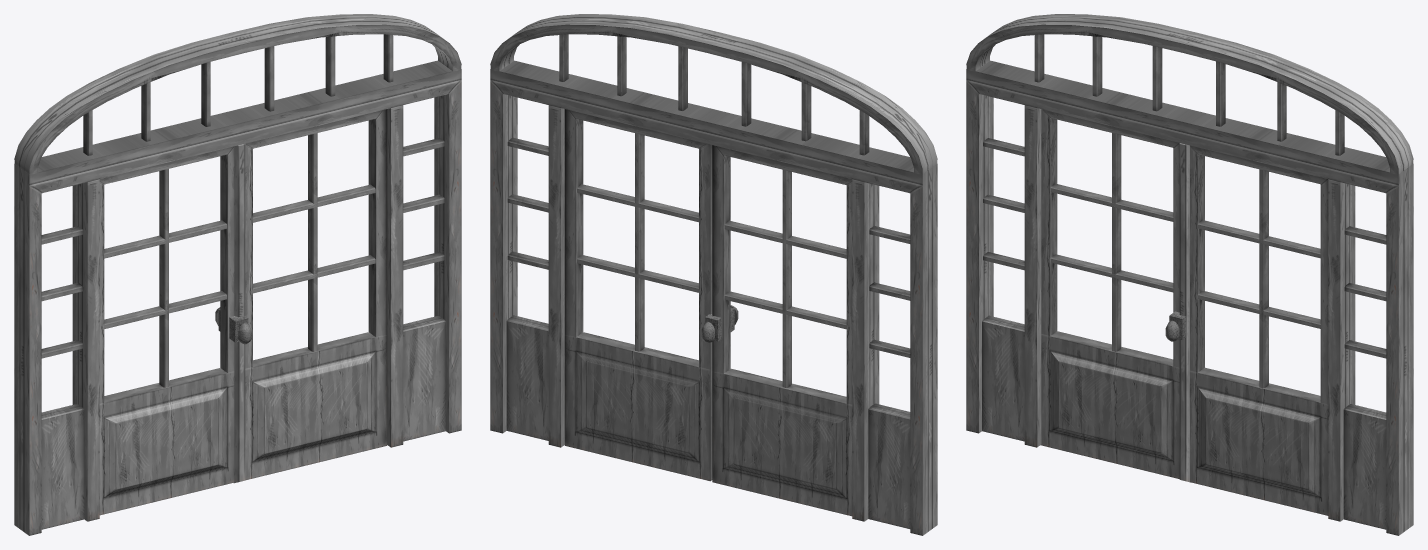
The model's file is doorGlass.fbx.
3 views of the same model, side by side, from view 1: azimuth 30°, elevation 25°; view 2: azimuth 150°, elevation 25°; view 3: azimuth 330°, elevation 25° (orthographic).
Visible parts, largest first — view 1: polySurface1587, polySurface1589; view 2: polySurface1587, polySurface1589; view 3: polySurface1587, polySurface1589.
Part boxes in pixels (<box>): polySurface1587: <box>14,14,461,535</box>; polySurface1589: <box>99,144,251,515</box>; polySurface1587: <box>490,14,937,535</box>; polySurface1589: <box>701,145,852,516</box>; polySurface1587: <box>966,14,1413,535</box>; polySurface1589: <box>1040,109,1190,482</box>.
Size of the model in its own units: 299 by 292 by 36.55.
